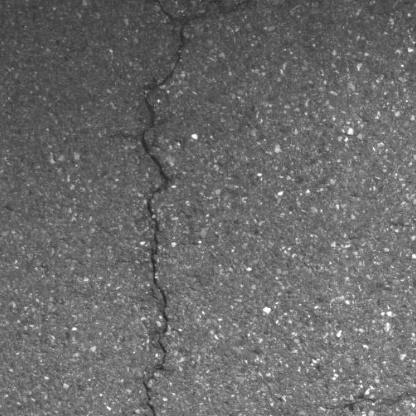Cracks: (137, 0, 213, 416), (336, 389, 381, 416)
